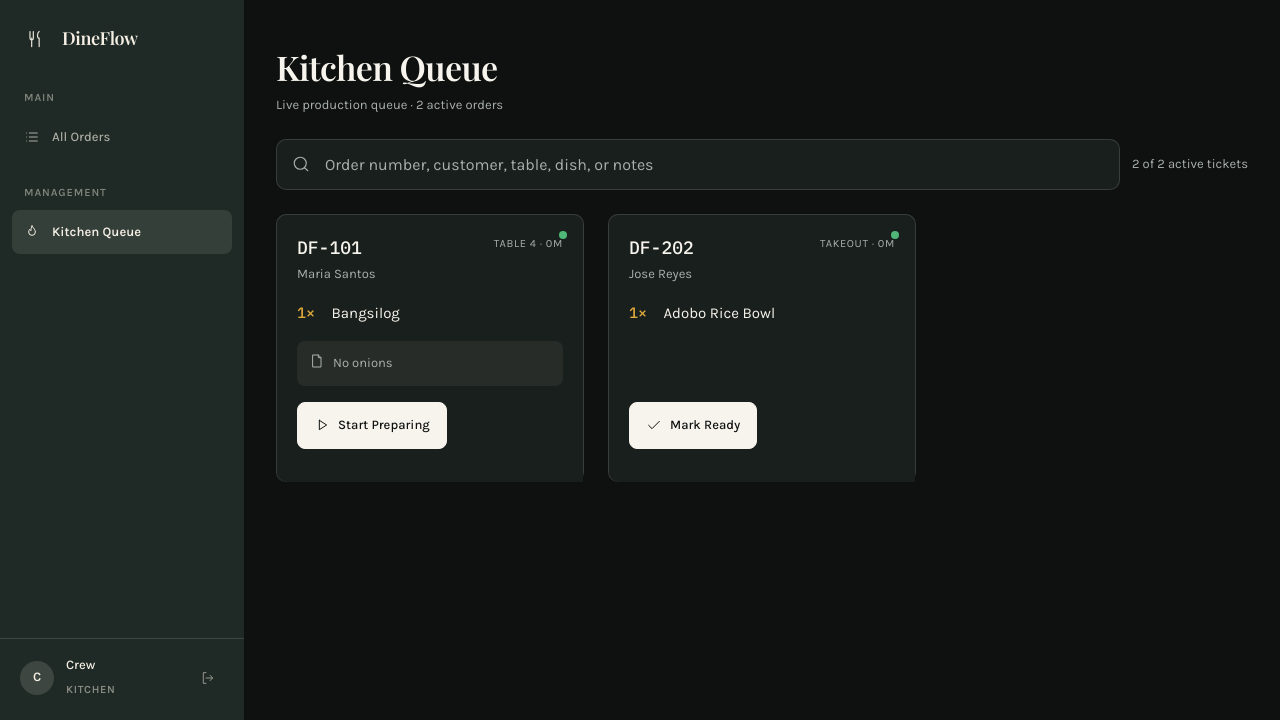
Test case: kitchen crew can search active tickets by order number and notes
In the search field named "Search kitchen tickets": x=698, y=164 [276, 139, 1120, 190], type "DF-202"
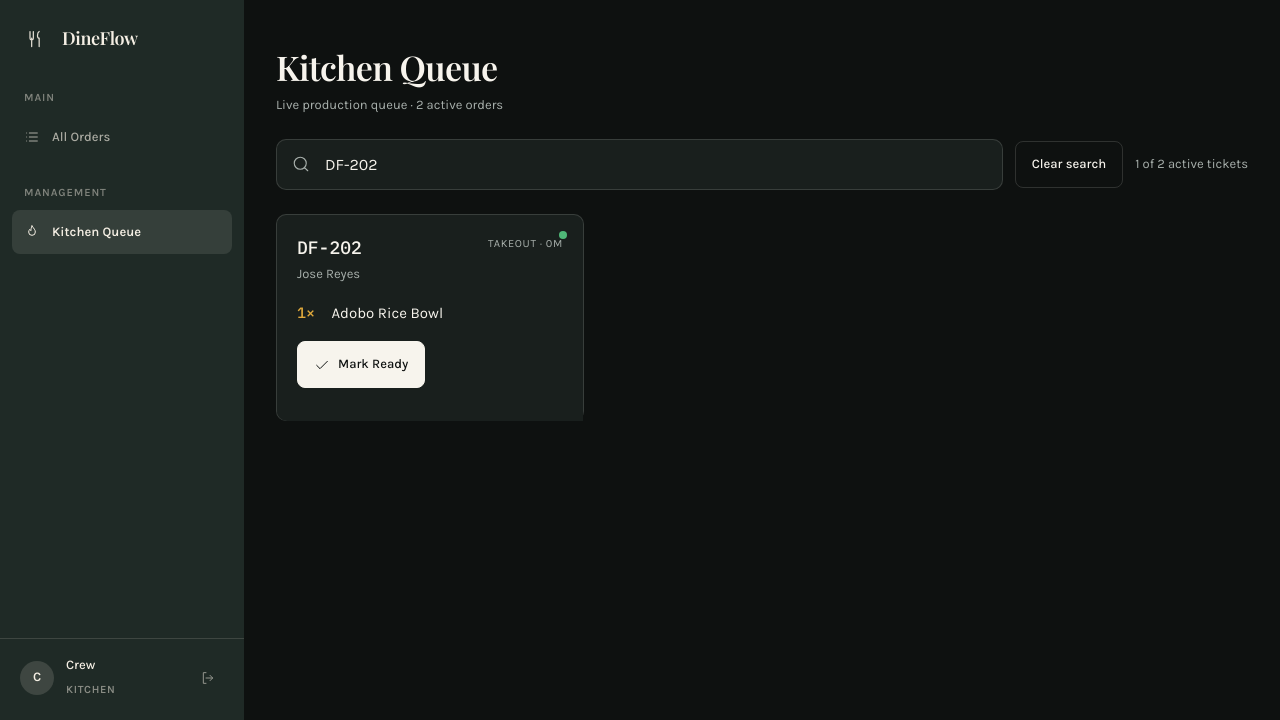
Expected: the heading "Jose Reyes" is shown, [297, 264, 362, 285]
Result: the heading "Maria Santos" is gone
Replace the text in the search field named "Search kitchen tickets" with "no onions": x=639, y=164 [276, 139, 1003, 190]
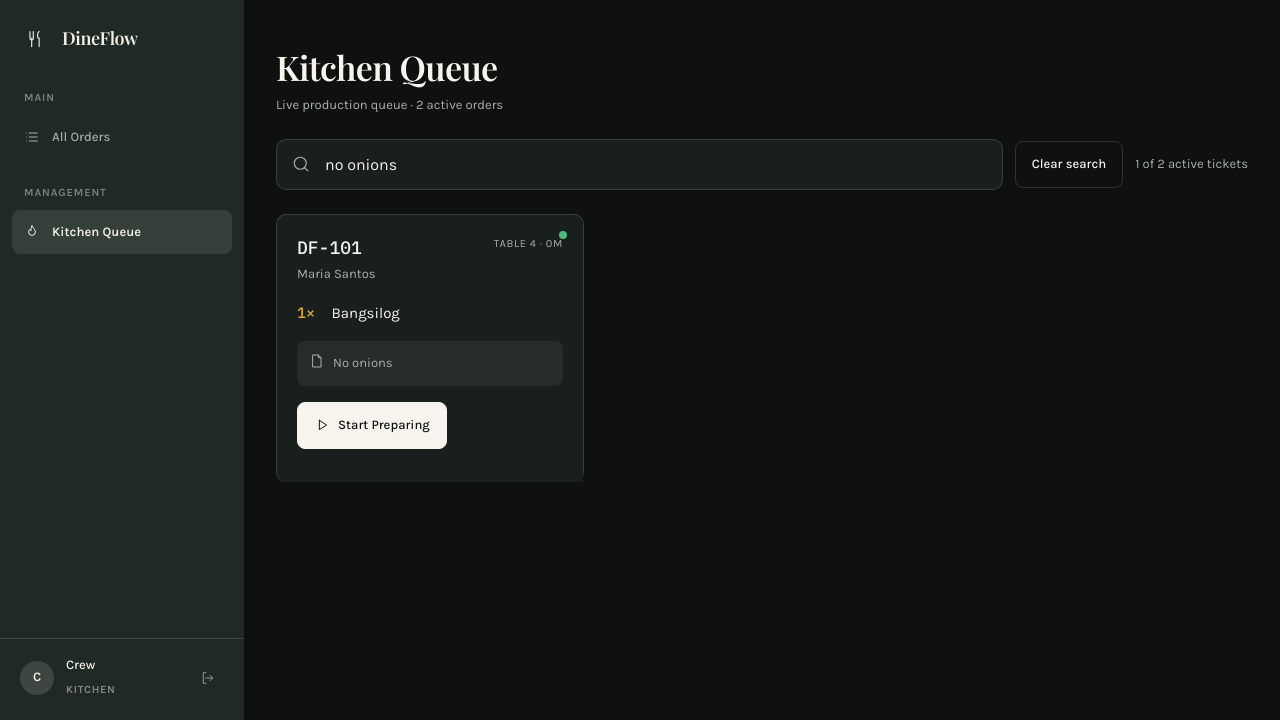
Result: the heading "Maria Santos" is shown at [297, 264, 376, 285]
Result: the heading "Jose Reyes" is gone
